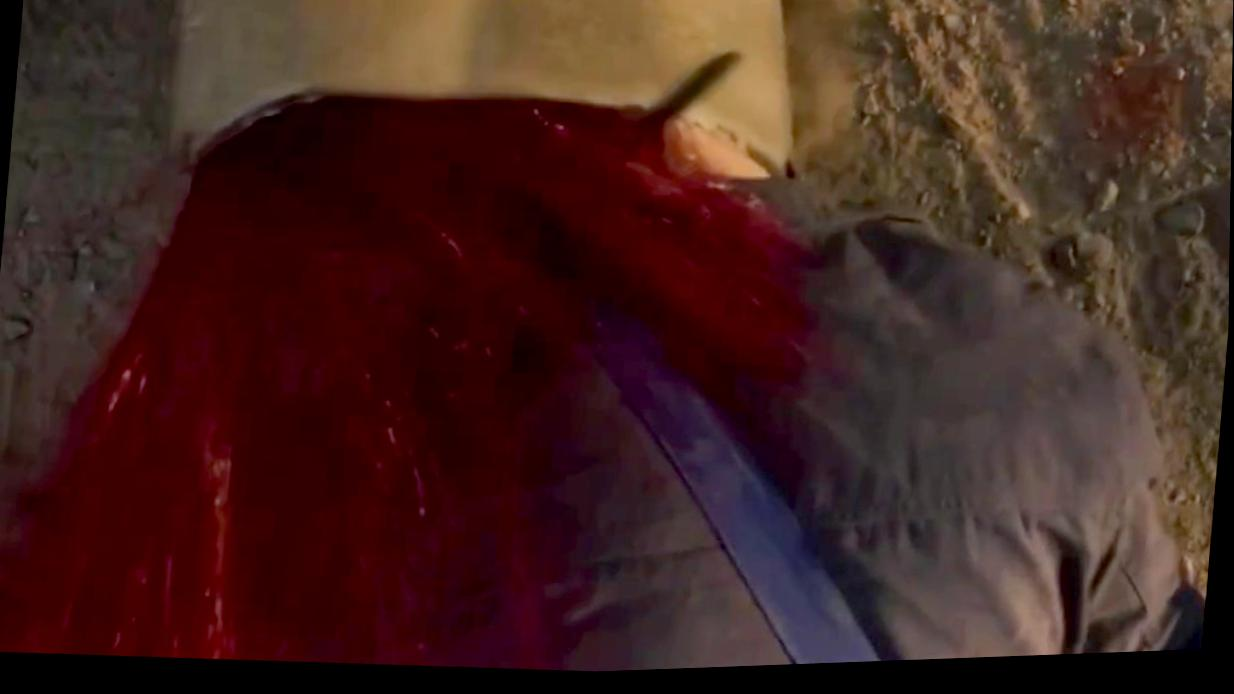Fire: (0, 95, 803, 669)
